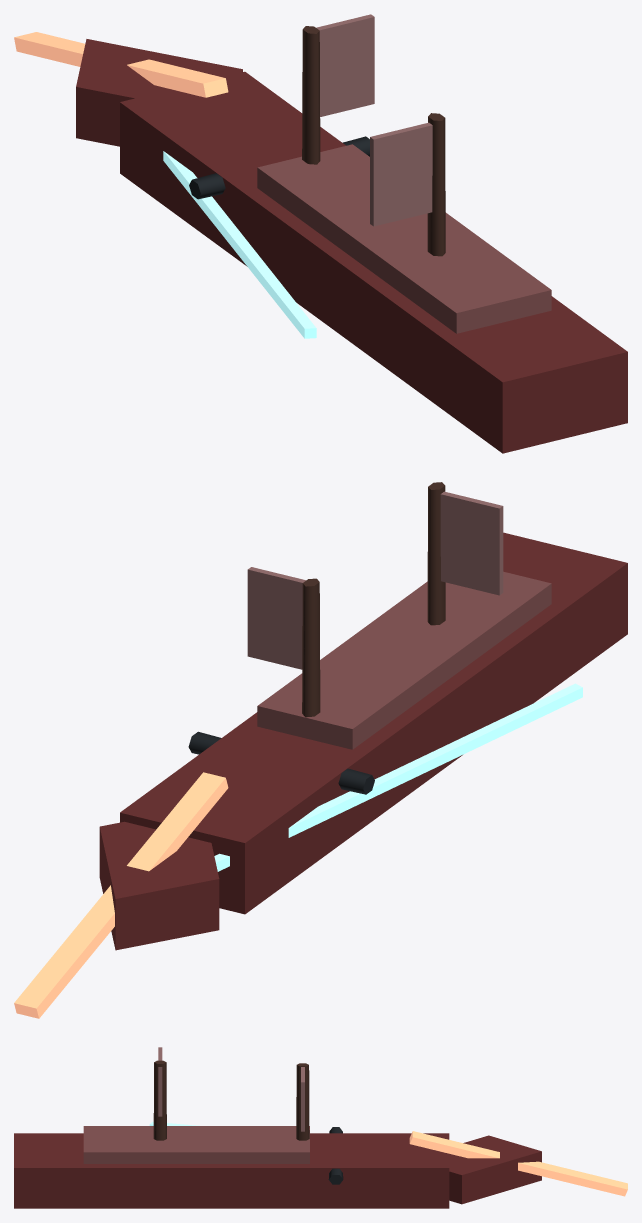
Rendered from ship_main_53_lod1.glb.
3 renders of one model, top to bottom at view 1: azimuth 30°, elevation 25°; view 2: azimuth 150°, elevation 25°; view 3: azimuth 270°, elevation 25°, orthographic. The views are drawn at different scales.
Parts seen in each view (by area): view 1: Hull, Deck_0, Bow, Sail_1, Sail_0, ProwIdentity, AsymmetricPortBlade, Mast_0, Mast_1, Gun_P_0; view 2: Hull, Deck_0, Bow, ProwIdentity, Sail_1, AsymmetricPortBlade, Sail_0, Mast_0, Mast_1; view 3: Hull, Deck_0, Bow, ProwIdentity, Mast_1, Mast_0, Sail_1, Sail_0.
Part boxes in pixels (box(x1,y1,x2,y2)): Hull: box(120, 71, 627, 453); Deck_0: box(257, 144, 551, 333); Bow: box(76, 39, 242, 146); Sail_1: box(370, 122, 432, 226); Sail_0: box(316, 14, 374, 116); ProwIdentity: box(14, 32, 228, 97); AsymmetricPortBlade: box(163, 151, 316, 338); Mast_0: box(302, 26, 320, 164); Mast_1: box(427, 113, 445, 256); Gun_P_0: box(189, 173, 225, 199); Hull: box(120, 532, 627, 914); Deck_0: box(257, 571, 551, 749); Bow: box(99, 821, 219, 950); ProwIdentity: box(14, 772, 228, 1018); Sail_1: box(440, 491, 503, 595); AsymmetricPortBlade: box(214, 683, 582, 871); Sail_0: box(247, 567, 305, 669); Mast_0: box(302, 578, 320, 717); Mast_1: box(427, 482, 445, 625); Hull: box(14, 1133, 449, 1208); Deck_0: box(83, 1126, 309, 1163); Bow: box(449, 1135, 541, 1204); ProwIdentity: box(409, 1131, 627, 1196); Mast_1: box(153, 1060, 166, 1140); Mast_0: box(296, 1063, 309, 1140); Sail_1: box(158, 1047, 162, 1116); Sail_0: box(301, 1067, 304, 1131).
Size of the model in its own units: 2.3 by 2.24 by 9.49.
